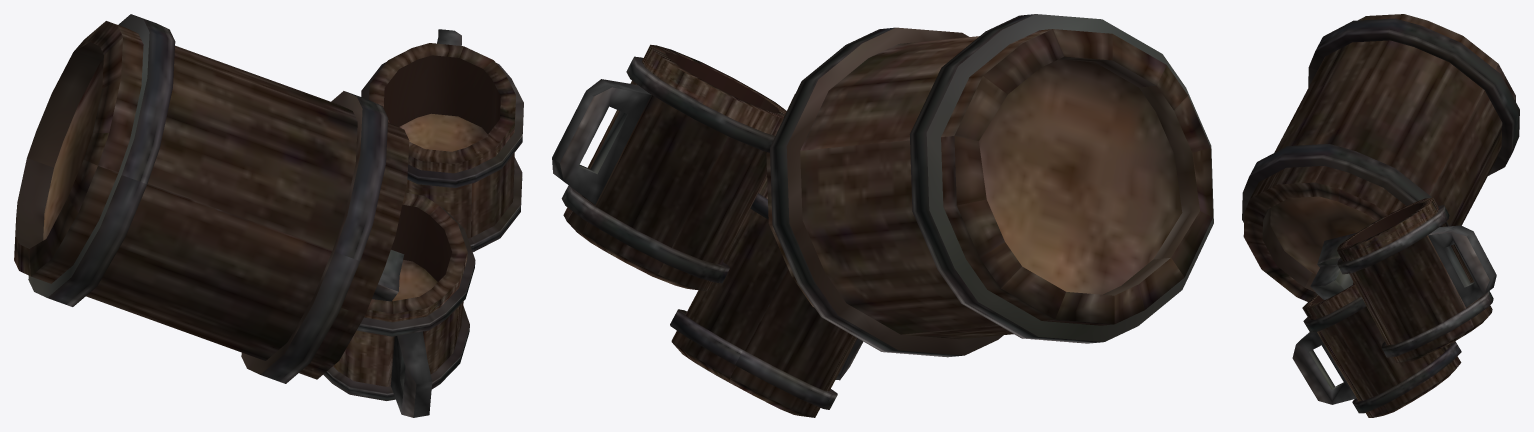
File: STATIC_PIWO.glb
3 renders of one model, left to right at view 1: azimuth 30°, elevation 25°; view 2: azimuth 150°, elevation 25°; view 3: azimuth 270°, elevation 25°, orthographic. The views are drawn at different scales.
Visible parts, largest first — view 1: Mesh; view 2: Mesh; view 3: Mesh.
Part boxes in pixels (left/top/right/bottom): Mesh: left=14, top=14, right=523, bottom=417; Mesh: left=552, top=14, right=1213, bottom=417; Mesh: left=1242, top=14, right=1519, bottom=417.
Size of the model in its own units: 0.4113 by 0.3153 by 0.2574.
1 material, 1 textured.
